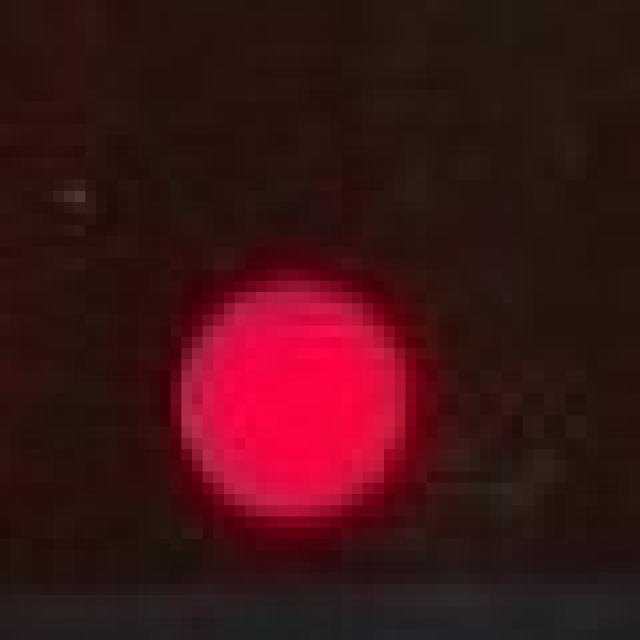.: (155, 240, 437, 547)
